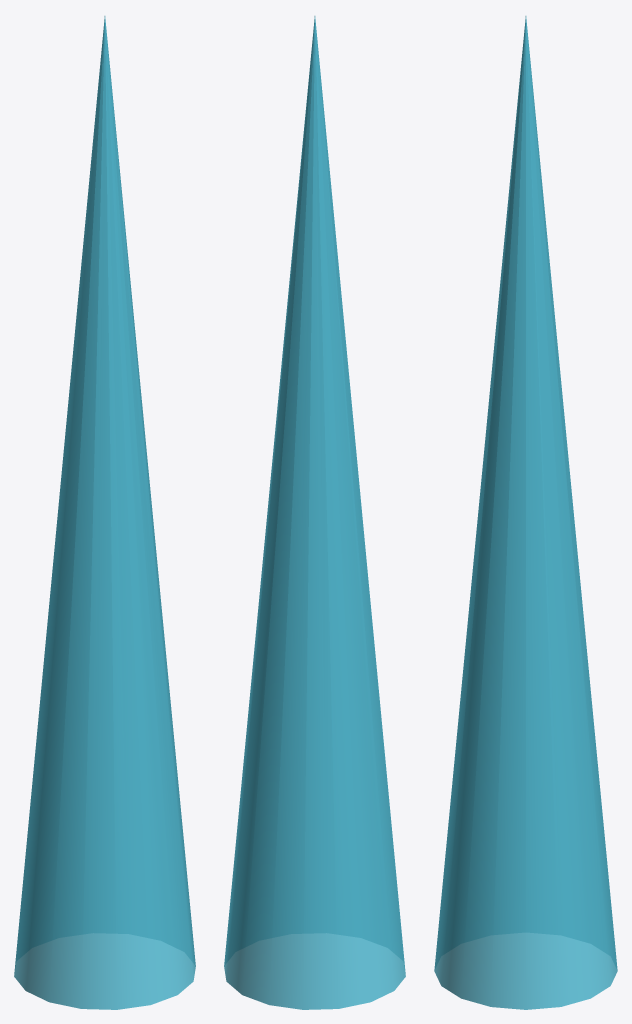
The model's file is view.dae.
3 views of the same model, side by side, from view 1: azimuth 30°, elevation 25°; view 2: azimuth 150°, elevation 25°; view 3: azimuth 270°, elevation 25° (orthographic).
Parts seen in each view (by area): view 1: group_0; view 2: group_0; view 3: group_0.
Part boxes in pixels (bbox=[...]): group_0: bbox=[14, 16, 195, 1009]; group_0: bbox=[224, 16, 405, 1009]; group_0: bbox=[434, 16, 617, 1009].
Size of the model in its own units: 120 by 120 by 691.
